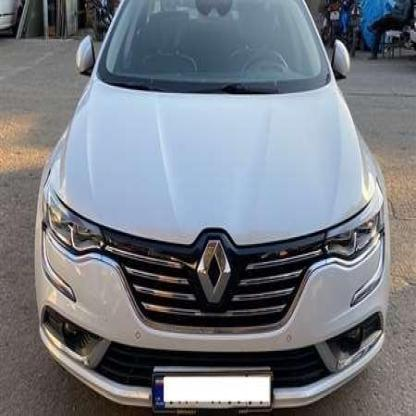Car: (31, 0, 393, 416)
